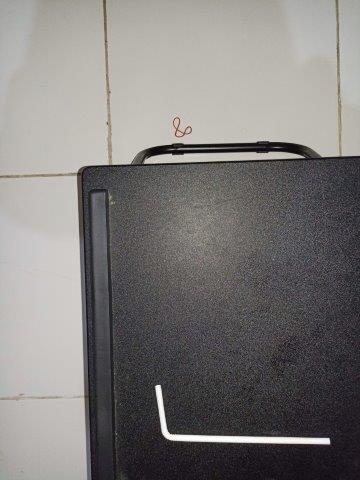karet: (172, 116, 192, 138)
sedotan: (154, 384, 330, 445)
